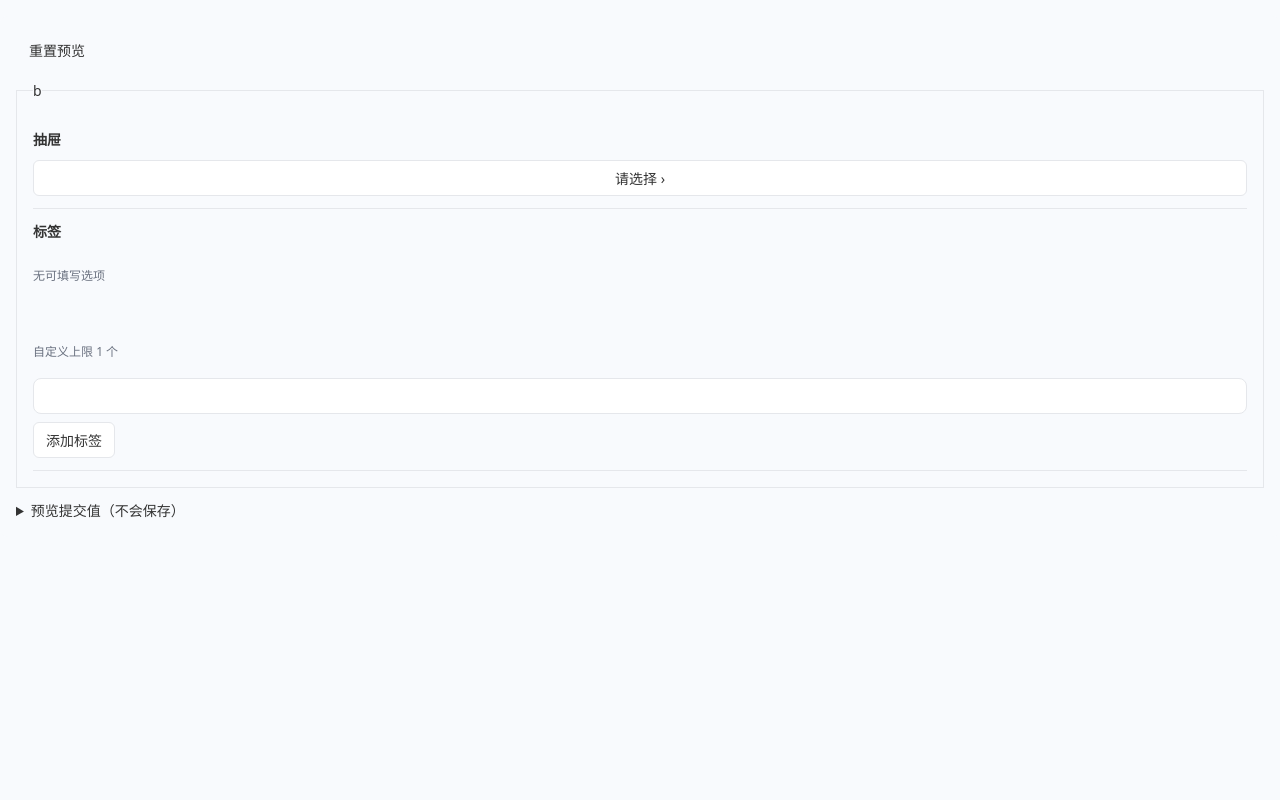
Scenario: 标签最多一个自定义，删除后可重新添加
The image size is (1280, 800).
In the field named "标签自定义标签": (640, 396) [33, 378, 1247, 414], type "一"
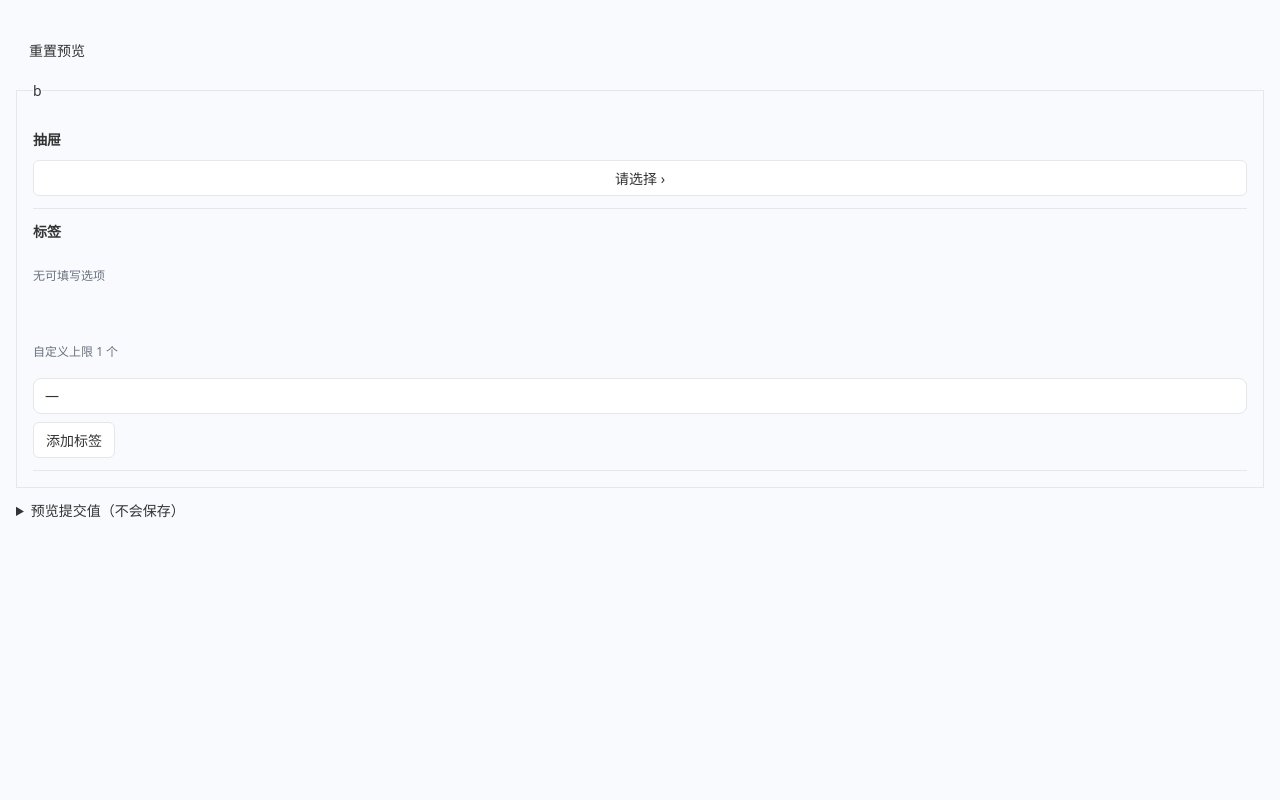
Click the button "添加标签": (74, 440) [33, 422, 115, 458]
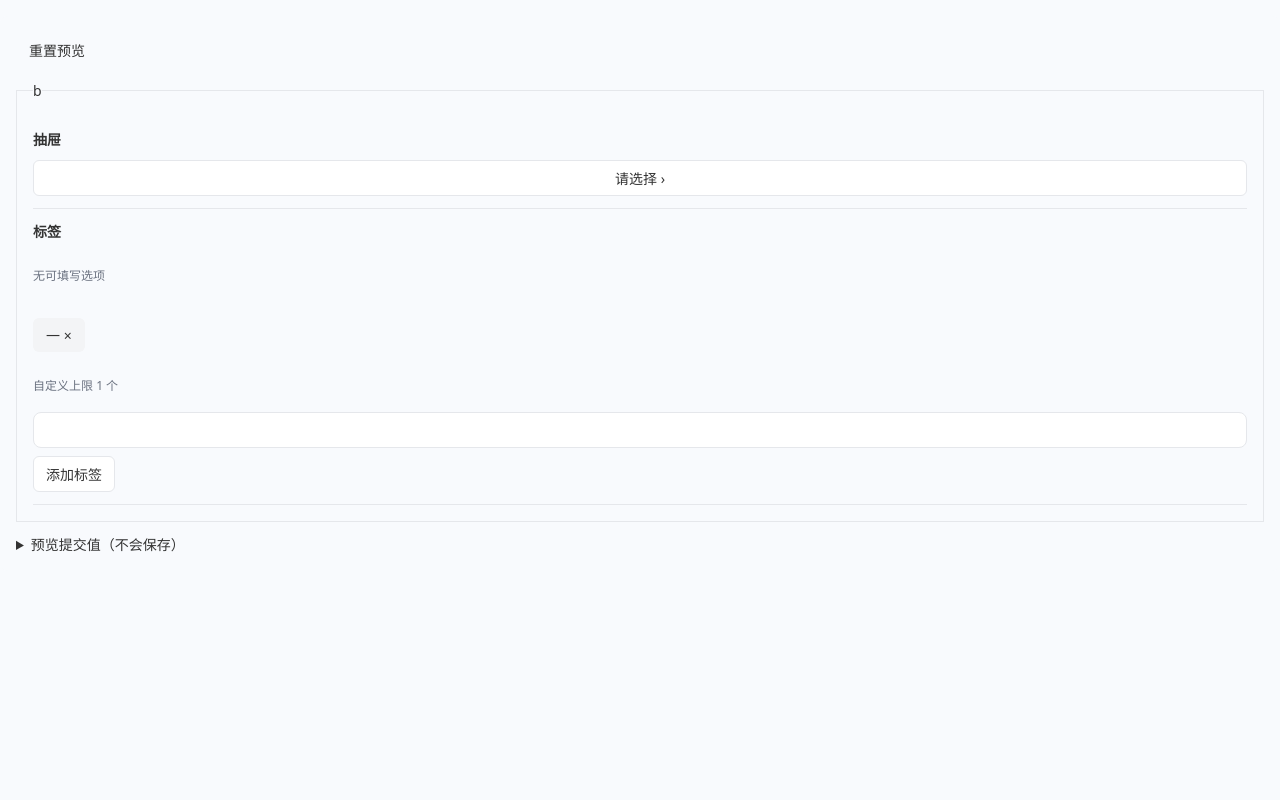
In the field named "标签自定义标签": (640, 430) [33, 412, 1247, 448], type "二"
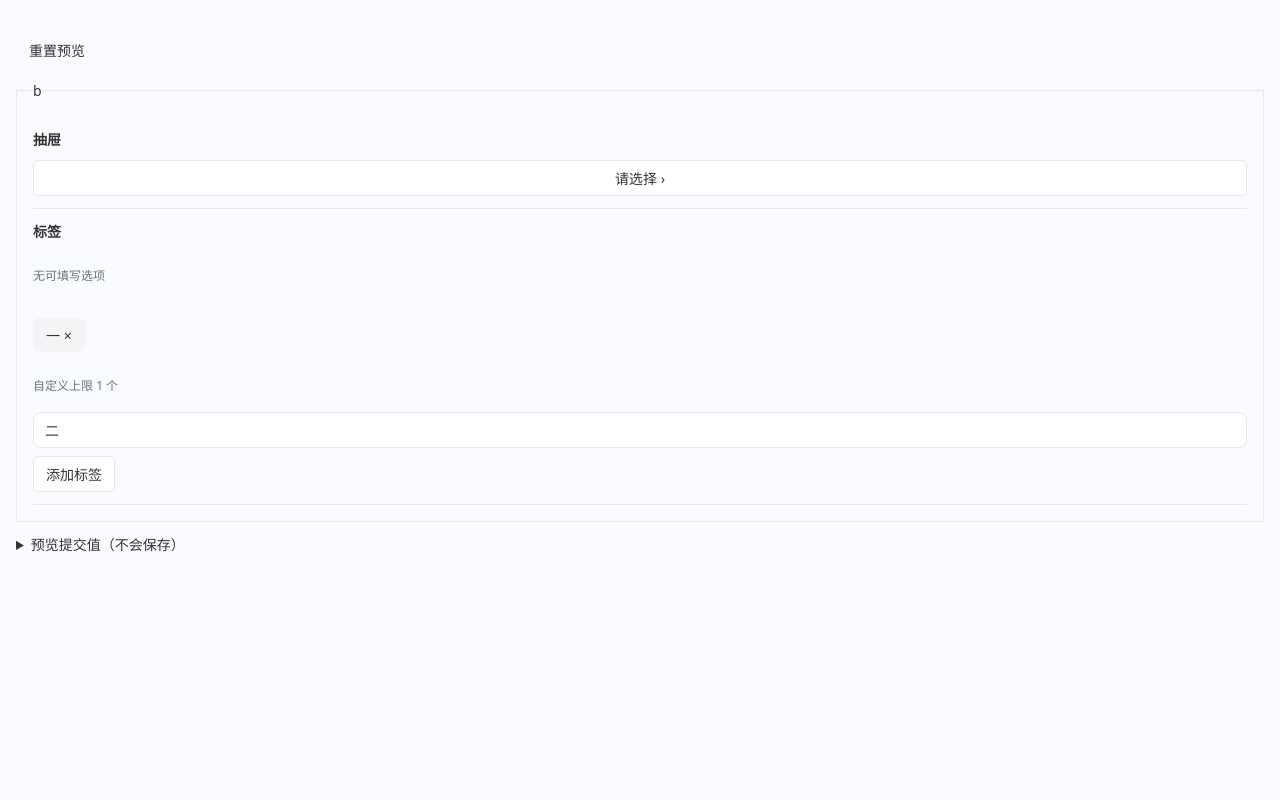
Click the button "添加标签": (74, 474) [33, 456, 115, 492]
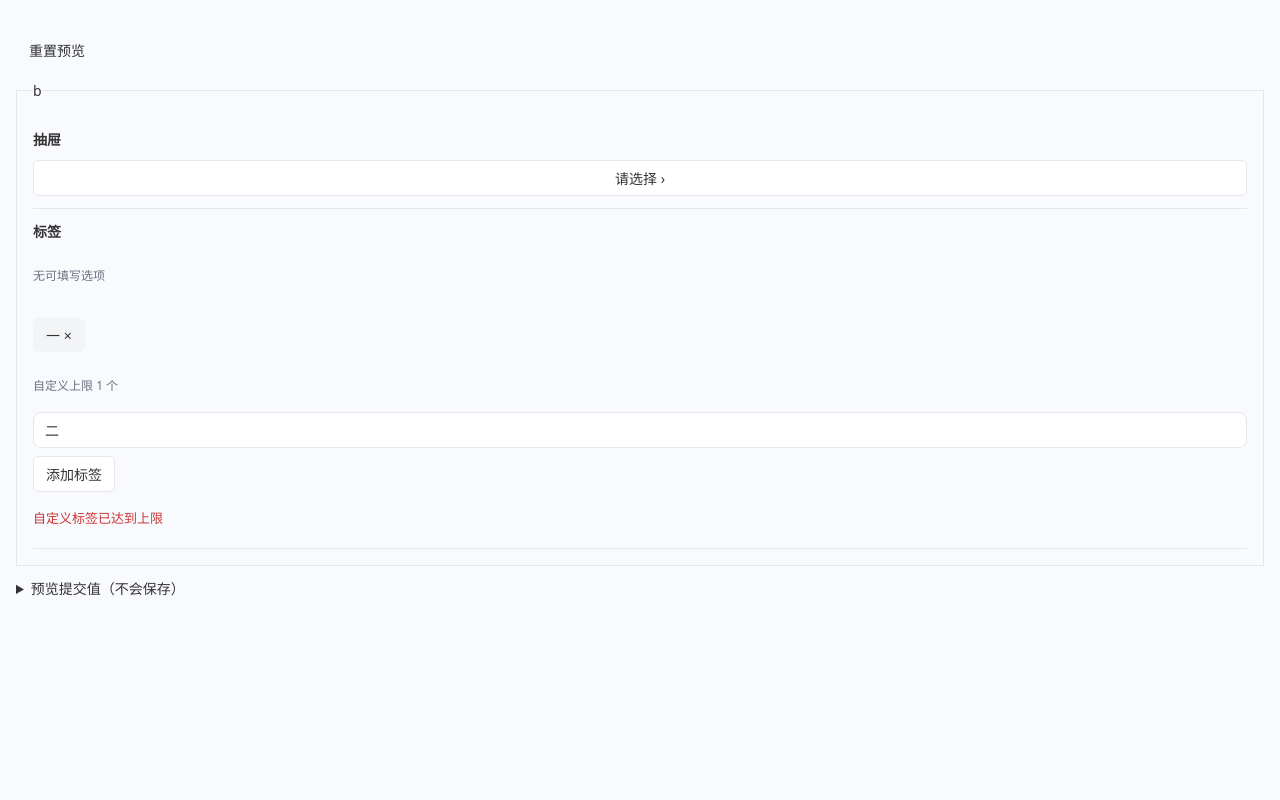
Expected: the message shows "上限", [33, 509, 163, 527]
Click the button named "删除标签一": (59, 335) [33, 318, 85, 352]
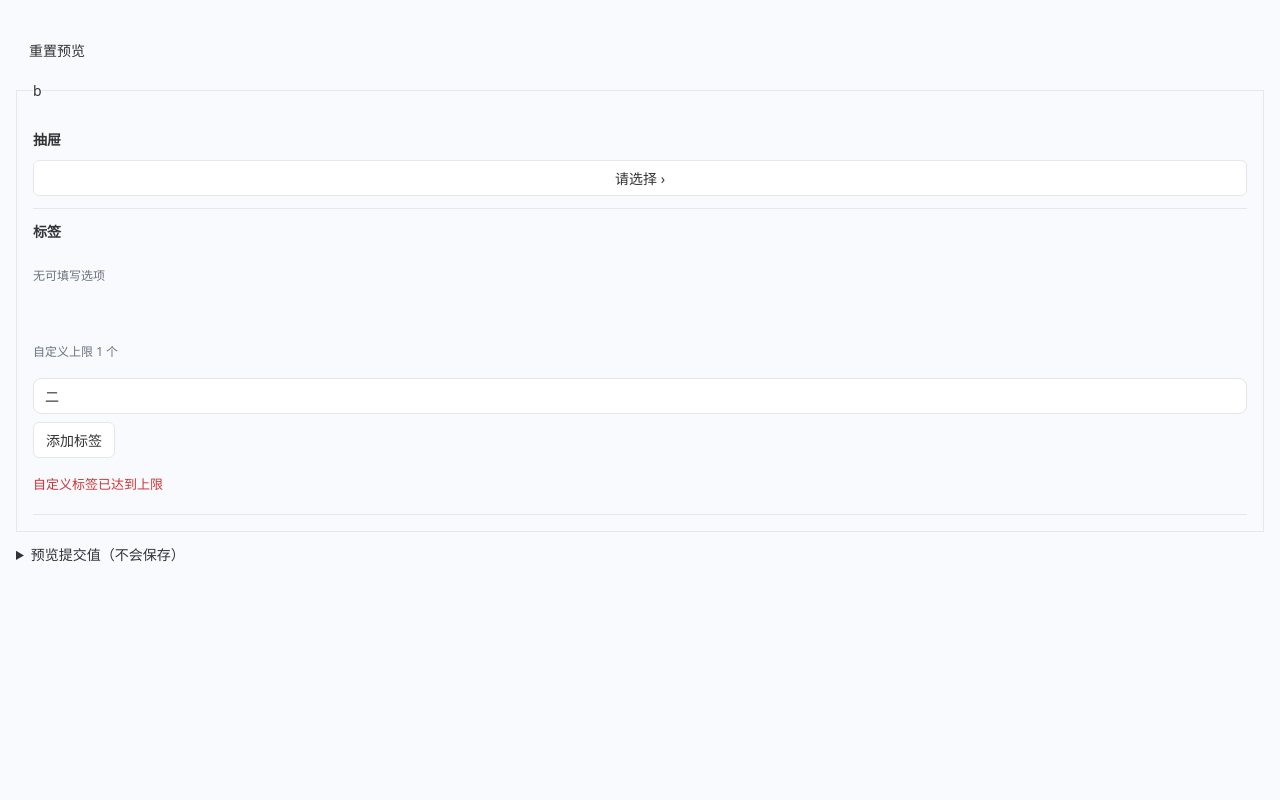
Click the button "添加标签": (74, 440) [33, 422, 115, 458]
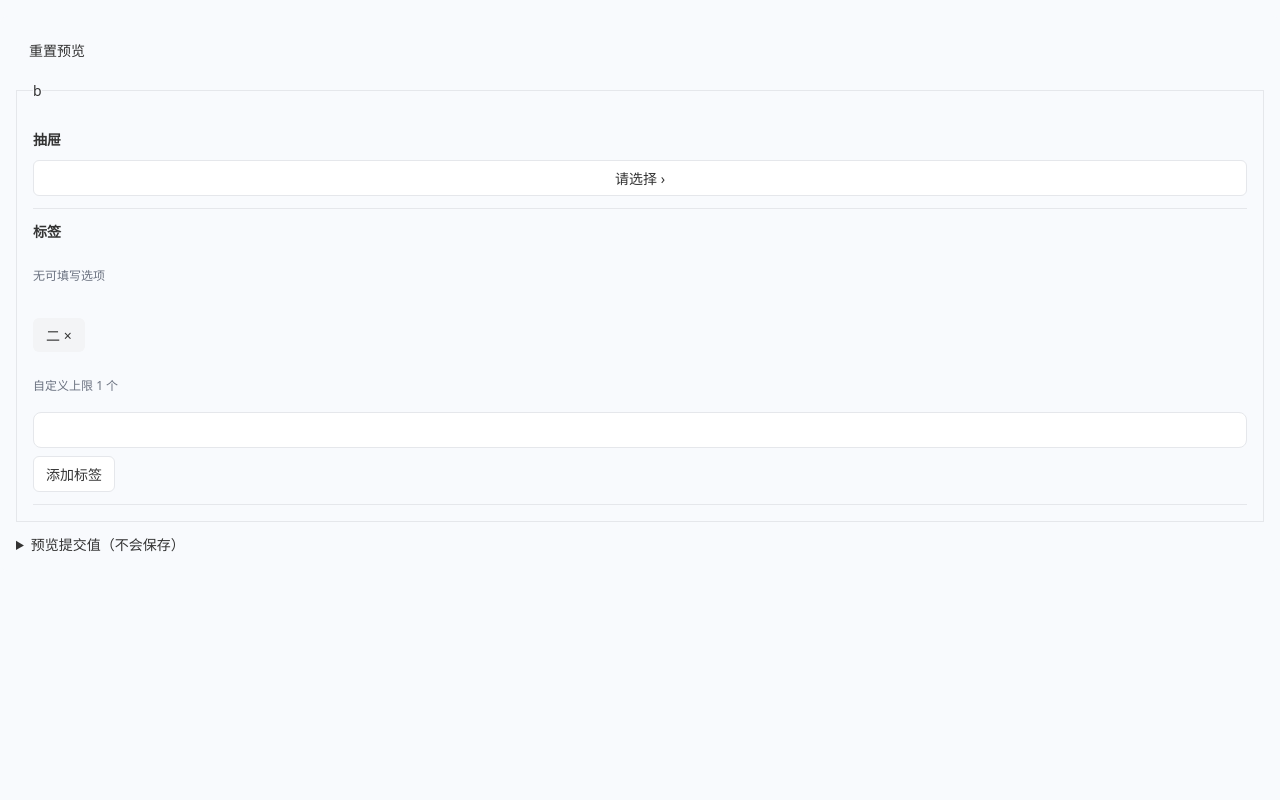
Expected: the button named "删除标签二" is shown, [33, 318, 85, 352]
